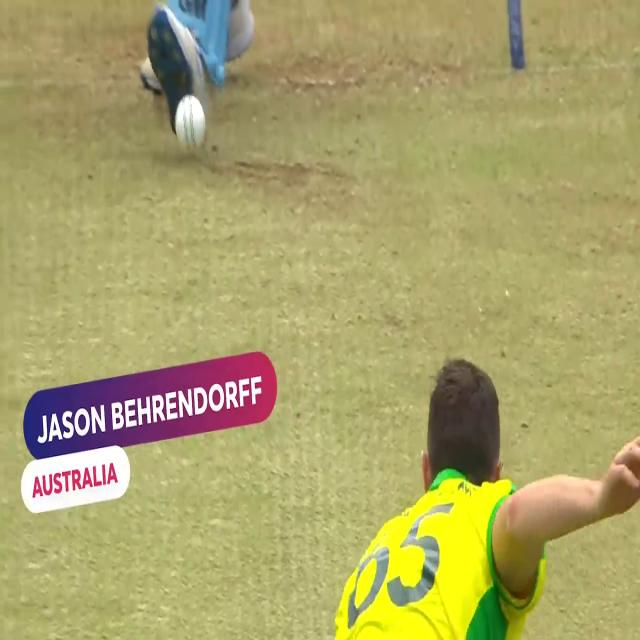ball: (173, 92, 209, 151)
